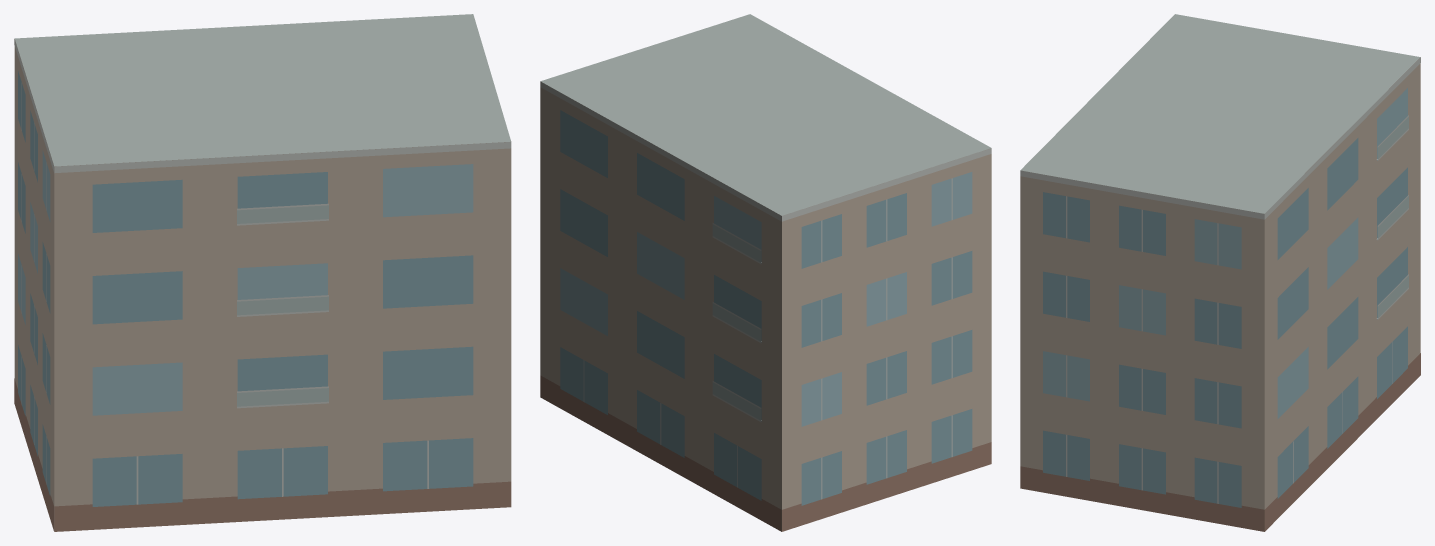
The model's file is survey-upis-32591088.glb.
3 renders of one model, left to right at view 1: azimuth 30°, elevation 25°; view 2: azimuth 150°, elevation 25°; view 3: azimuth 270°, elevation 25°, orthographic. The views are drawn at different scales.
Visible parts, largest first — view 1: survey-upis-32591088.tmp; view 2: survey-upis-32591088.tmp; view 3: survey-upis-32591088.tmp.
Part boxes in pixels (bbox=[...]): survey-upis-32591088.tmp: bbox=[14, 14, 511, 531]; survey-upis-32591088.tmp: bbox=[540, 14, 991, 531]; survey-upis-32591088.tmp: bbox=[1020, 14, 1420, 531].
Size of the model in its own units: 17.92 by 13.29 by 15.18.
